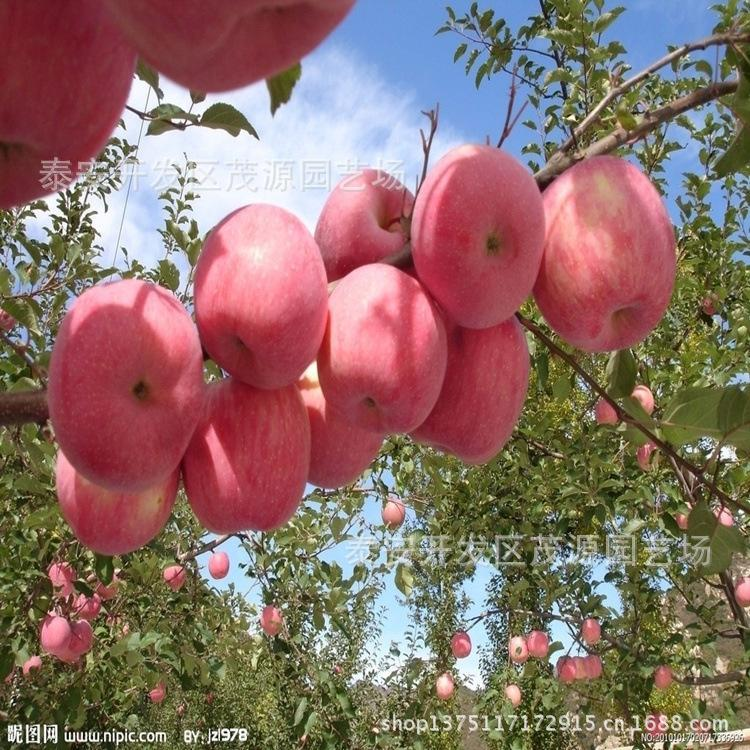apple: (47, 275, 205, 490), (528, 153, 677, 352), (190, 203, 331, 391), (409, 144, 546, 328), (316, 260, 448, 437), (179, 375, 312, 536), (417, 317, 530, 465), (381, 497, 405, 527)
